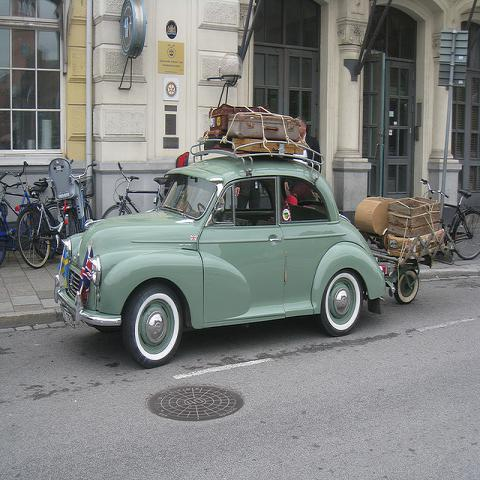car: (52, 157, 398, 370)
